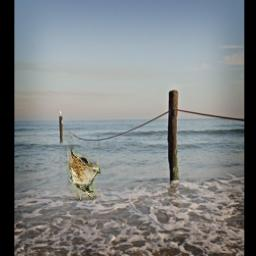Sparrow: (63, 132, 102, 201)
